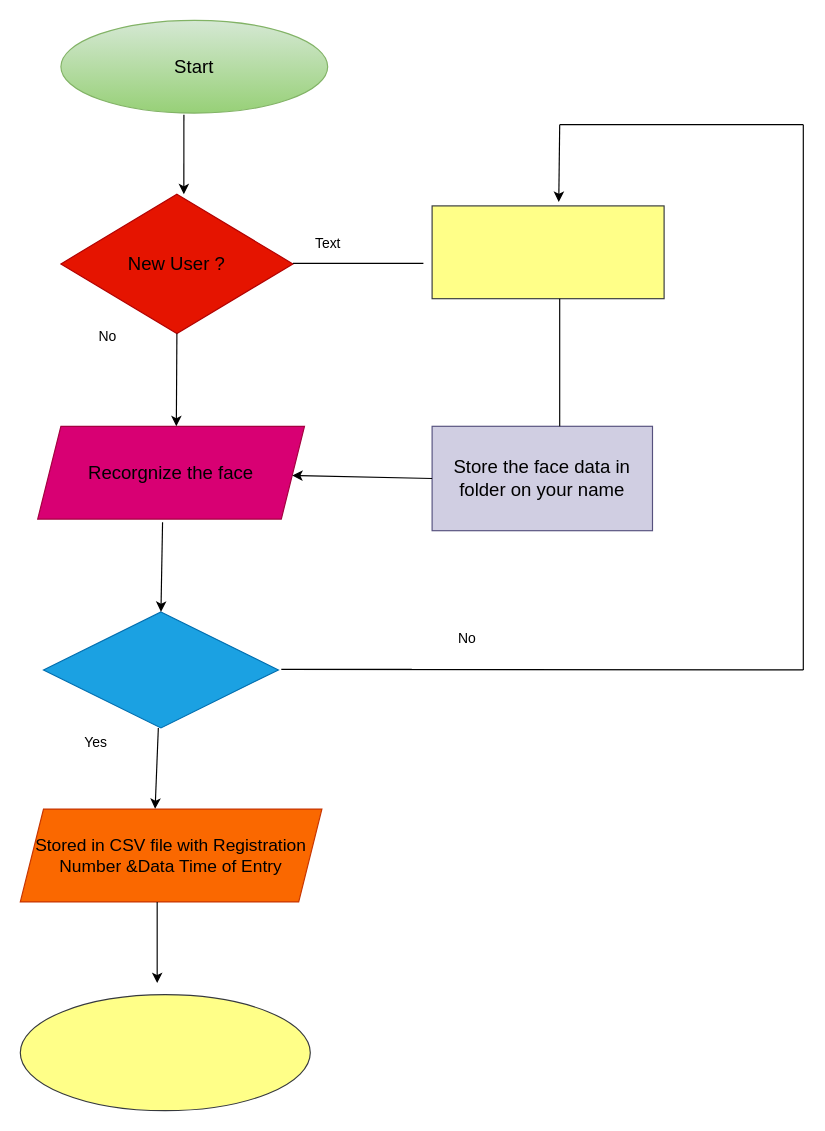
Some shapes in this 825 by 1131 pixel diagram are drawn without their labels. Each missing label, with the centre of its shape:
End: pixel 164 1052
Face Recorgnized: pixel 160 669
Give your Photograph: pixel 547 252
